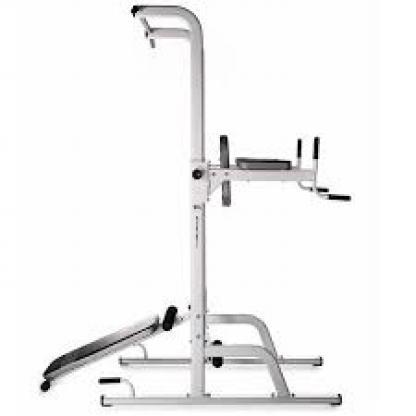chinning dipping: (130, 2, 354, 410)
